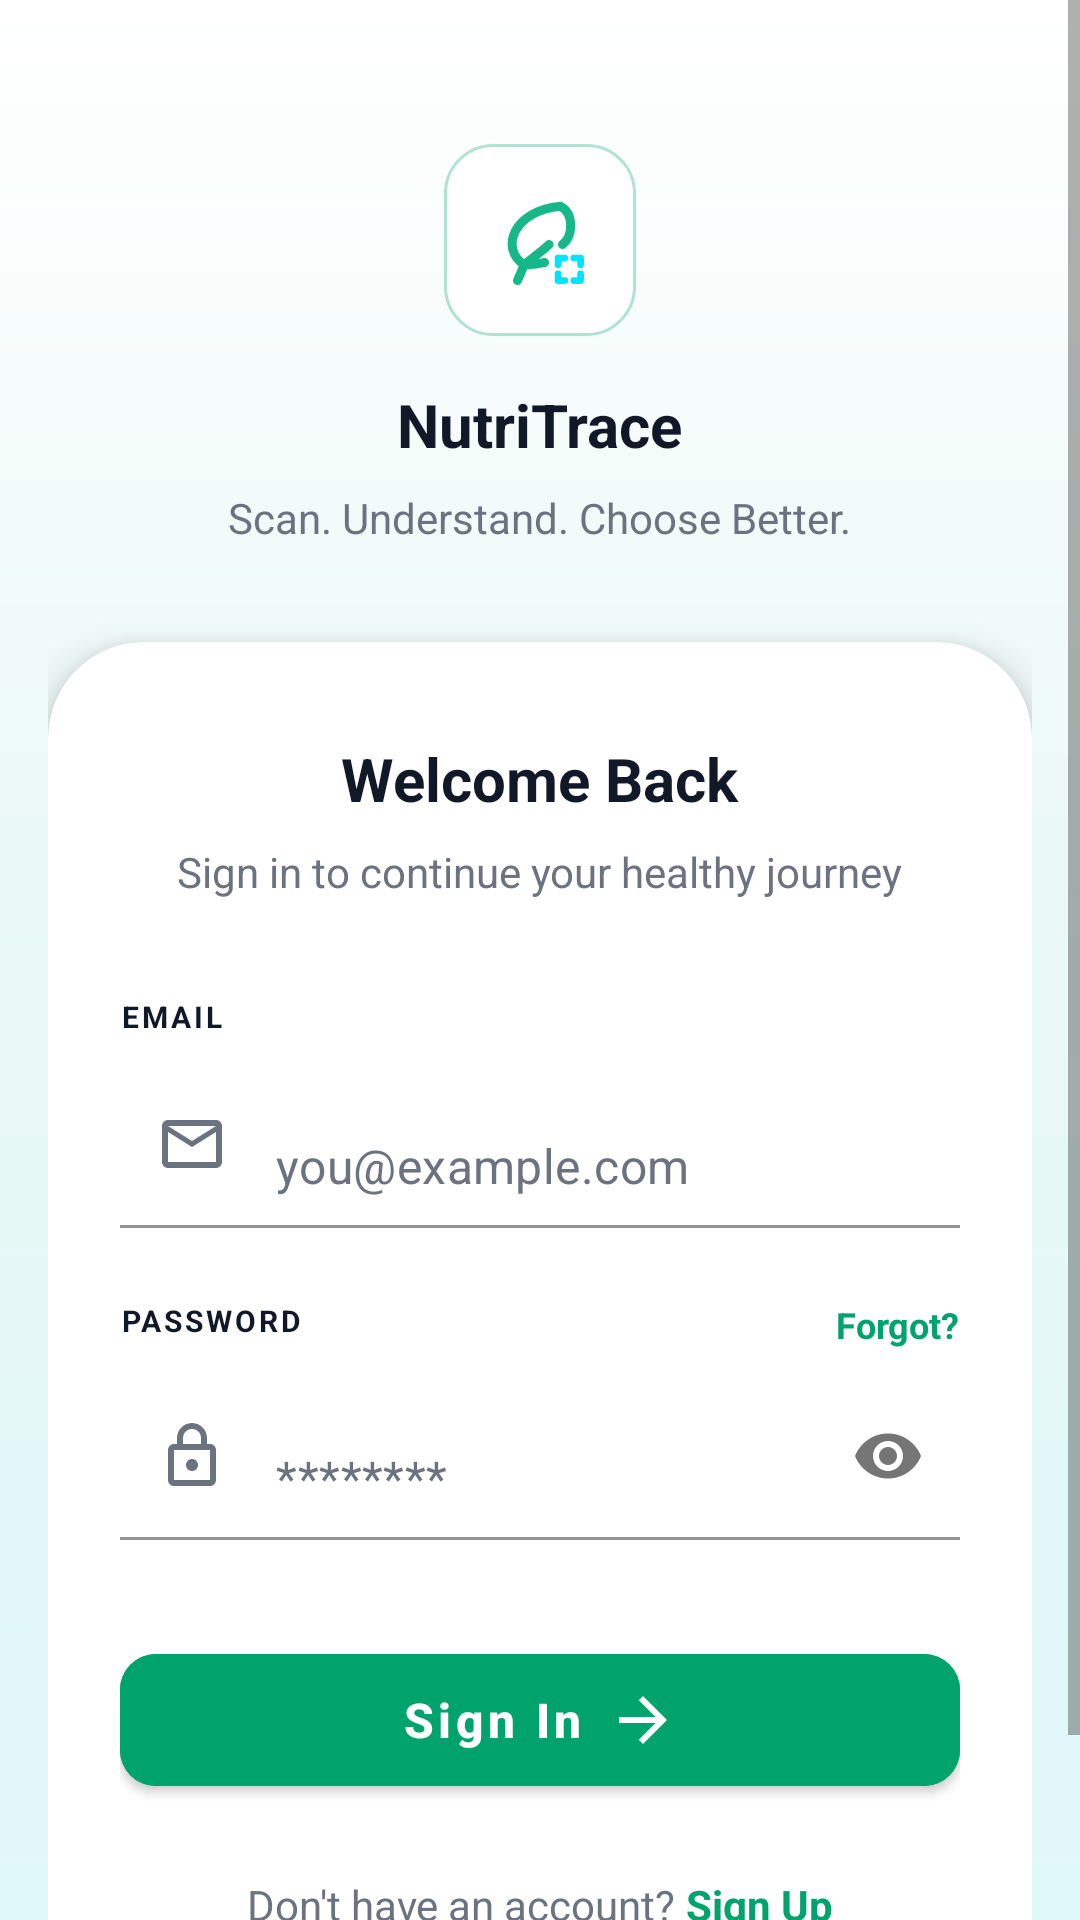

Where to tap for icons on this 1080px×1920px app screen, as (x=x, y=y):
eco: (x=545, y=243)
